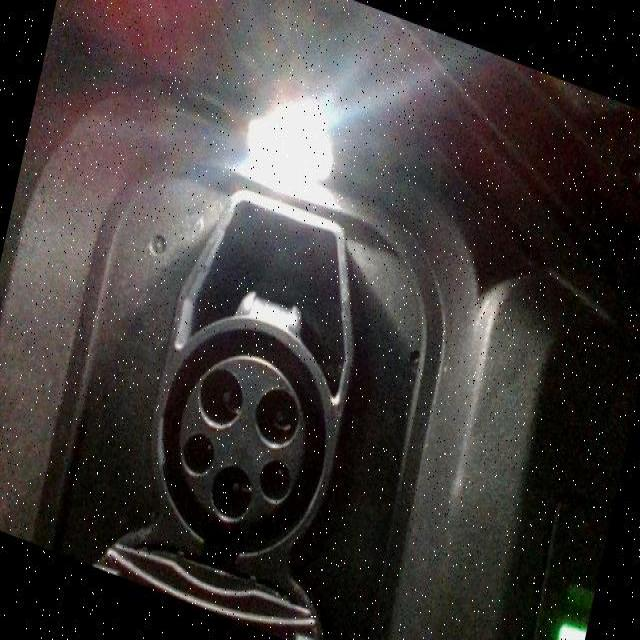Type 1: (167, 334, 323, 556)
